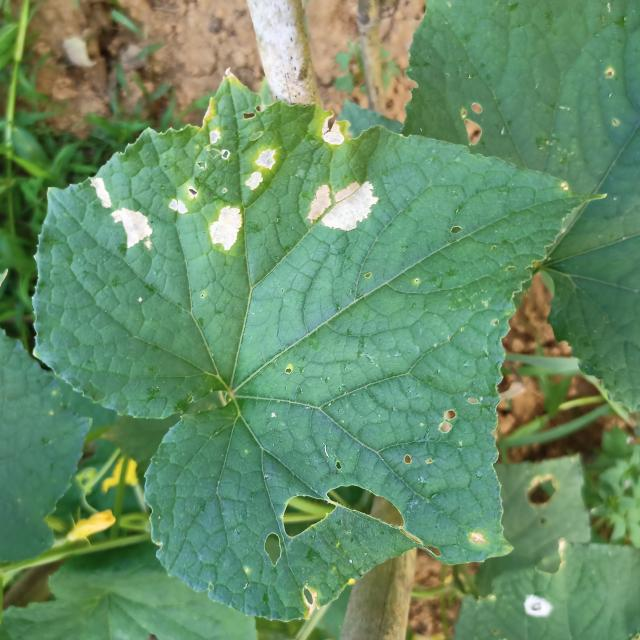disease_cucumber: (163, 118, 282, 252), (298, 176, 388, 241), (84, 177, 158, 255), (309, 107, 353, 153)
